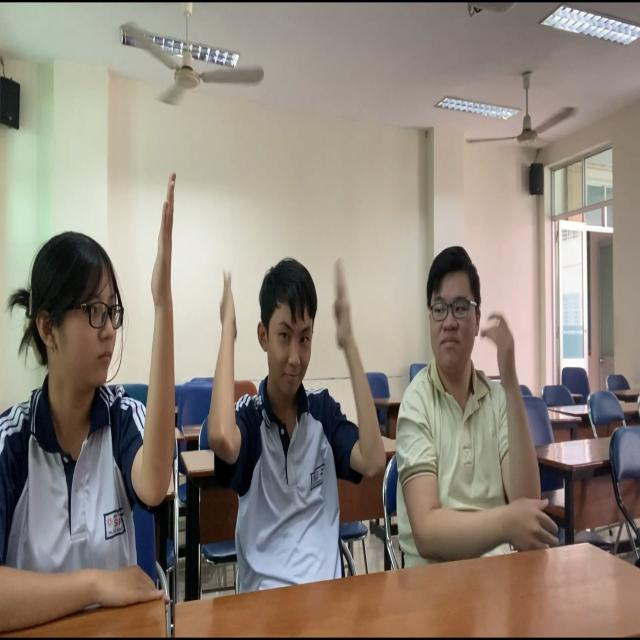raise_hand: (1, 169, 180, 610)
